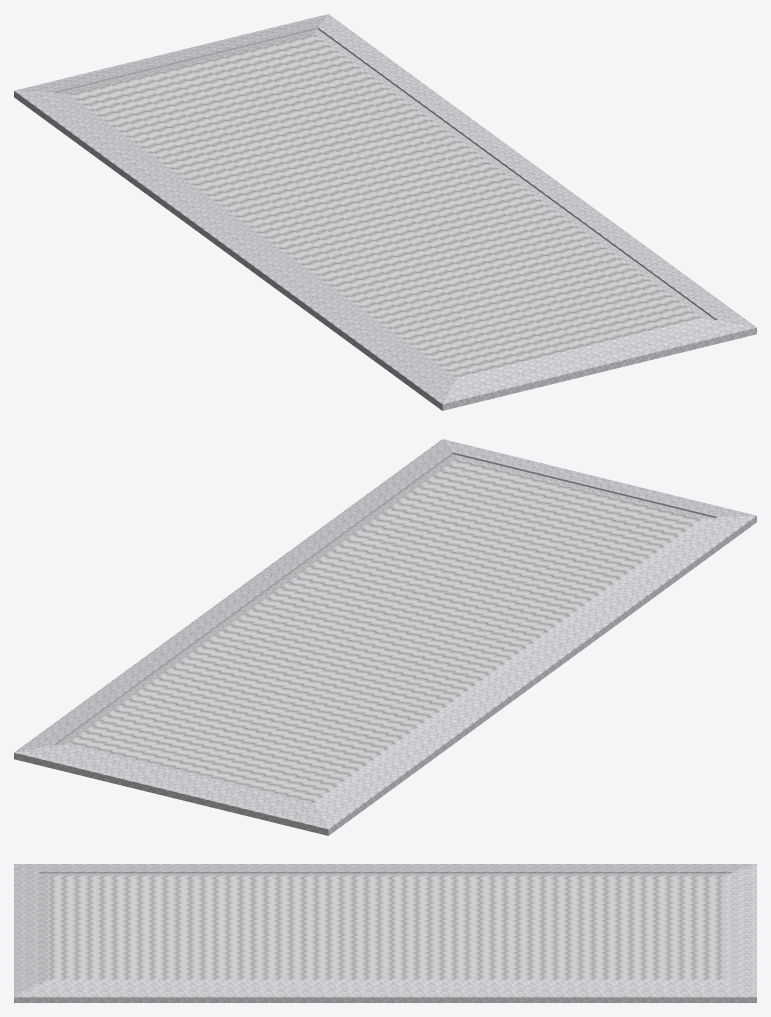
File: espejo.obj
3 views of the same model, one above another, from view 1: azimuth 30°, elevation 25°; view 2: azimuth 150°, elevation 25°; view 3: azimuth 270°, elevation 25° (orthographic). The views are drawn at different scales.
Parts seen in each view (by area): view 1: espejo; view 2: espejo; view 3: espejo.
Boxes of the visible parts, x1=… form: espejo: x1=14, y1=14, x2=756, y2=410; espejo: x1=14, y1=439, x2=756, y2=835; espejo: x1=14, y1=864, x2=756, y2=1002.
Bounding box in the file's own units: 3.16 × 0.0949 × 7.47.
Materials: 2 (2 with a texture image).
